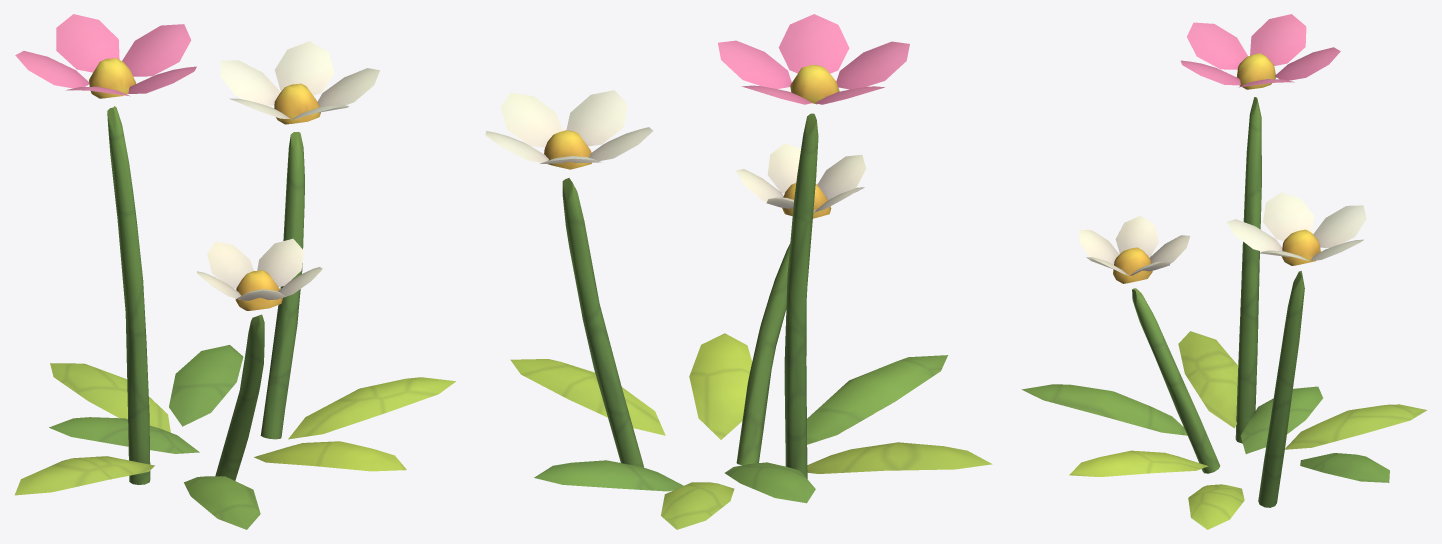
The model's file is V04_FlowerCluster.fbx.
3 views of the same model, side by side, from view 1: azimuth 30°, elevation 25°; view 2: azimuth 150°, elevation 25°; view 3: azimuth 270°, elevation 25° (orthographic). The views are drawn at different scales.
Visible parts, largest first — view 1: V04_FlowerCluster; view 2: V04_FlowerCluster; view 3: V04_FlowerCluster.
Boxes of the visible parts, box(x1,y1,x2,y2) form: V04_FlowerCluster: box(15, 14, 455, 529); V04_FlowerCluster: box(485, 14, 992, 529); V04_FlowerCluster: box(1021, 14, 1426, 529).
Bounding box in the file's own units: 0.48 × 0.44 × 0.42.
